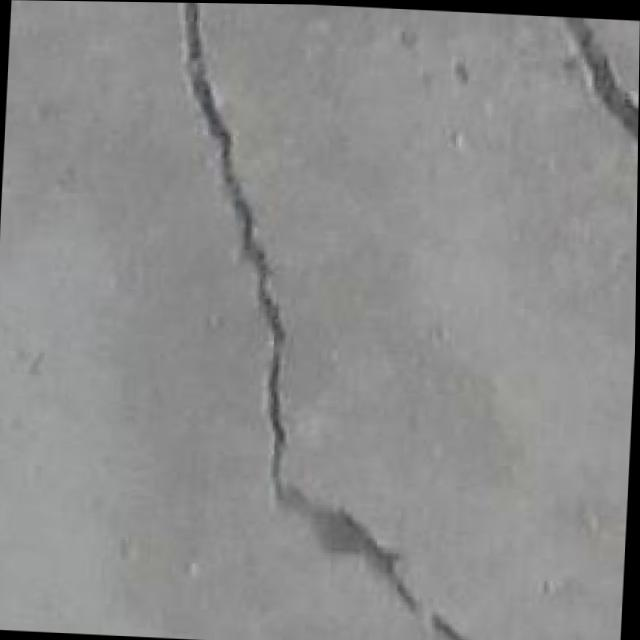Crack: (134, 2, 338, 500), (305, 500, 491, 640), (553, 14, 640, 173)
